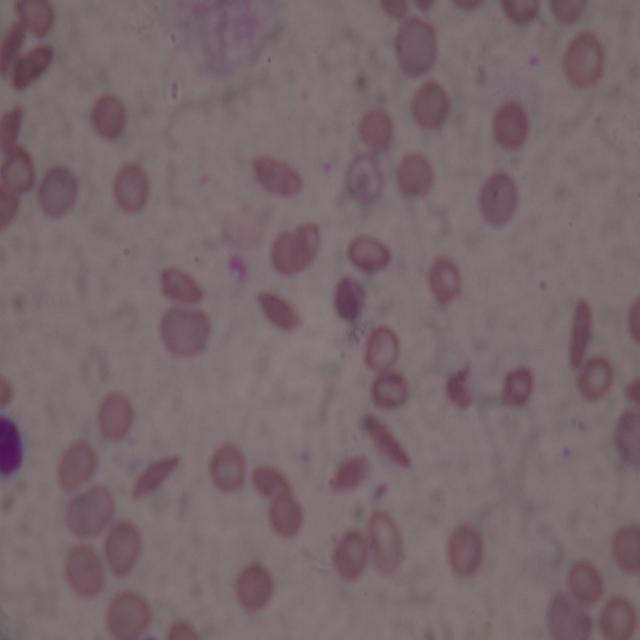Crystal: (356, 411, 412, 469), (250, 151, 308, 203), (131, 451, 181, 502), (13, 36, 56, 94), (158, 264, 208, 308), (254, 289, 303, 333), (565, 296, 593, 370), (329, 454, 371, 496), (0, 19, 28, 72), (253, 462, 292, 500), (0, 102, 28, 154)
Others: (156, 306, 212, 357), (35, 158, 81, 220), (65, 482, 114, 539), (393, 18, 439, 78), (270, 226, 320, 281), (366, 510, 405, 579), (476, 171, 518, 228), (107, 587, 152, 640), (442, 520, 482, 578), (64, 544, 105, 600), (326, 529, 367, 582), (564, 34, 604, 87), (410, 76, 448, 130), (88, 91, 128, 142), (396, 152, 435, 203), (96, 389, 133, 442), (210, 441, 246, 495), (233, 564, 275, 610), (346, 153, 382, 206), (56, 440, 94, 490), (106, 522, 144, 572), (347, 232, 392, 274), (564, 558, 606, 603), (550, 593, 590, 640), (492, 101, 530, 150), (364, 322, 400, 371), (0, 149, 36, 197), (369, 369, 410, 411), (114, 162, 148, 212), (332, 275, 367, 323), (426, 255, 457, 308), (360, 106, 394, 153), (612, 408, 640, 465), (501, 363, 535, 407), (602, 597, 636, 639), (578, 357, 610, 401), (270, 494, 304, 535), (611, 522, 640, 569)
